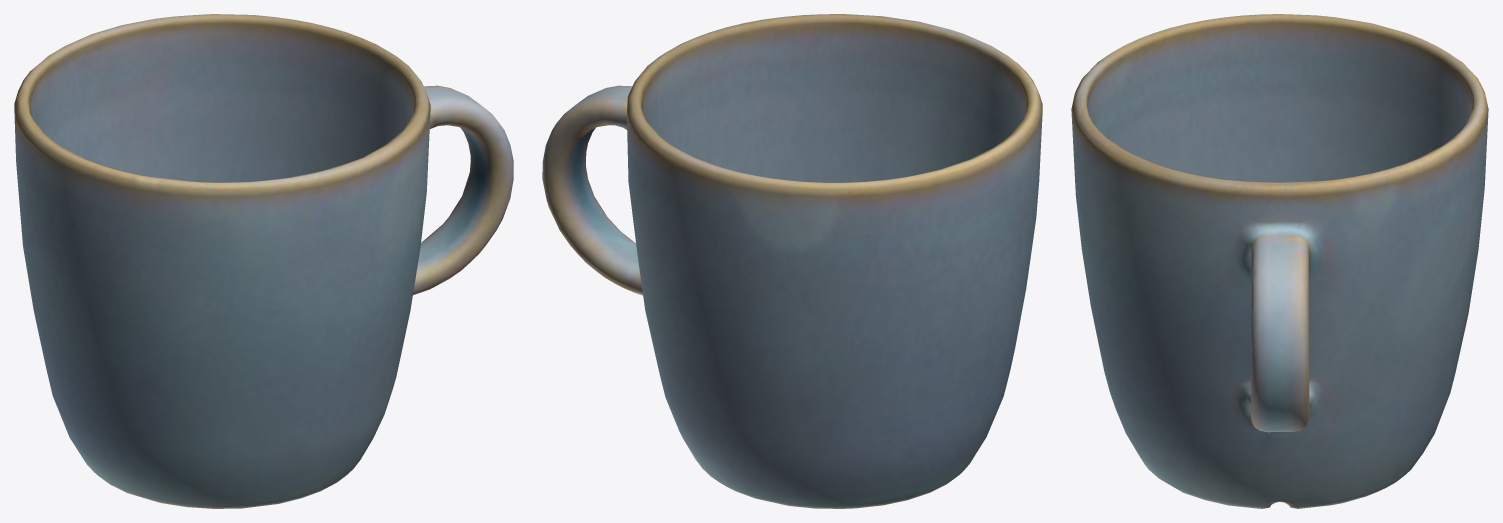
File: fargklar_kubek_70604879.glb
3 views of the same model, side by side, from view 1: azimuth 30°, elevation 25°; view 2: azimuth 150°, elevation 25°; view 3: azimuth 270°, elevation 25° (orthographic).
Parts seen in each view (by area): view 1: fargklar_kubek_70604879; view 2: fargklar_kubek_70604879; view 3: fargklar_kubek_70604879.
Part boxes in pixels (x1=…): fargklar_kubek_70604879: x1=14, y1=14, x2=513, y2=508; fargklar_kubek_70604879: x1=542, y1=14, x2=1042, y2=508; fargklar_kubek_70604879: x1=1071, y1=14, x2=1488, y2=508.
Bounding box in the file's own units: 0.1288 × 0.0942 × 0.1004.
Materials: 1 (1 with a texture image).
